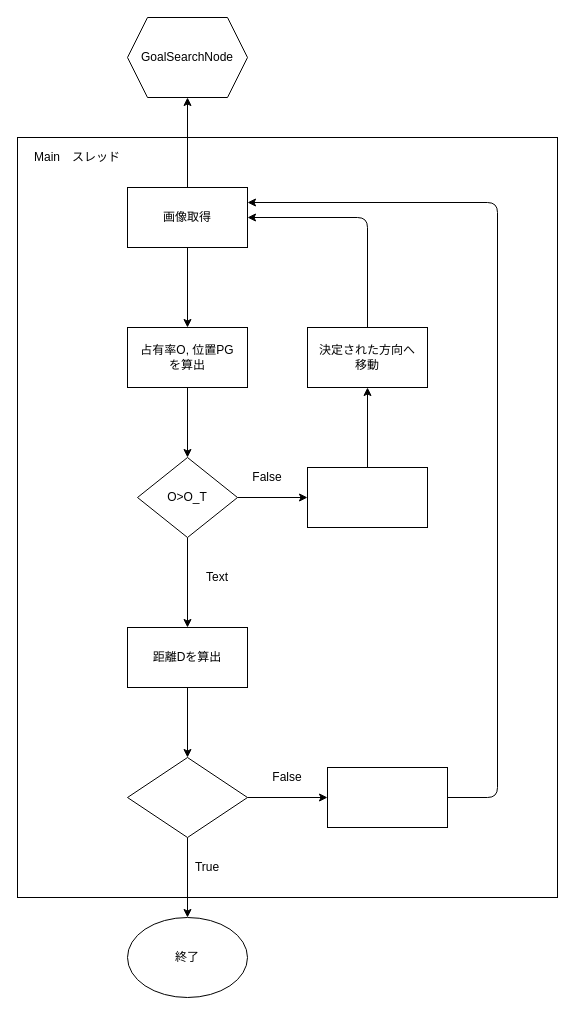
The diagram is 575 pixels wide and 1015 high, and some of its shapes have lost their labels. Each missing label, with the centre of its shape:
"D<D_T" belongs at (187,797).
"PGの値から 移動方向を決定" belongs at (367,497).
"微小前進" belongs at (387,797).
